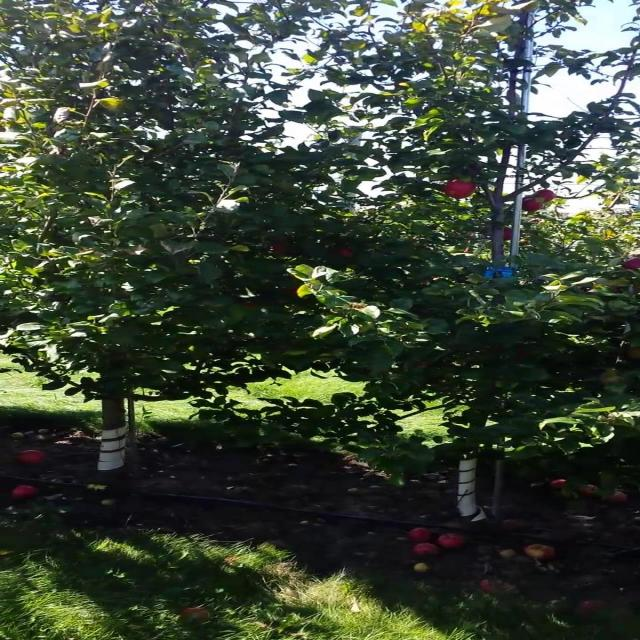apple: (444, 179, 476, 198), (600, 369, 624, 384), (531, 189, 556, 202), (271, 240, 291, 255), (522, 198, 542, 212), (513, 345, 531, 359), (622, 258, 640, 270), (336, 246, 353, 258), (242, 301, 260, 309), (502, 228, 513, 240), (416, 360, 429, 367)
